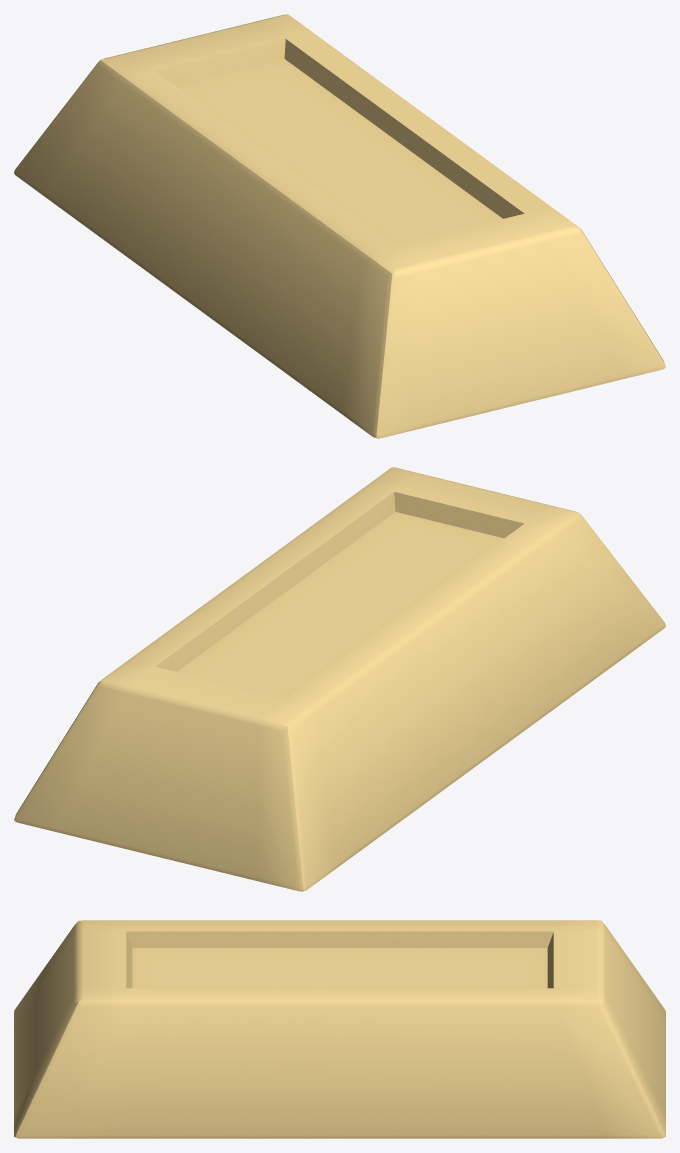
File: ignot.fbx
The picture shows the model from 3 angles, top to bottom: view 1: azimuth 30°, elevation 25°; view 2: azimuth 150°, elevation 25°; view 3: azimuth 270°, elevation 25°; orthographic projection. The views are drawn at different scales.
Visible parts, largest first — view 1: Cube; view 2: Cube; view 3: Cube.
Part boxes in pixels (x1=…): Cube: x1=14, y1=14, x2=665, y2=438; Cube: x1=14, y1=467, x2=665, y2=891; Cube: x1=14, y1=920, x2=665, y2=1138.
Bounding box in the file's own units: 138 × 58.66 × 298.
